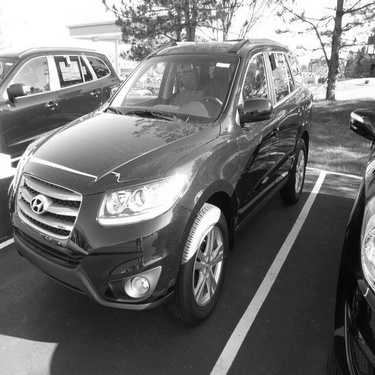car: (1, 31, 315, 329), (1, 43, 121, 164), (328, 90, 371, 371), (119, 70, 158, 102), (301, 67, 322, 88)
